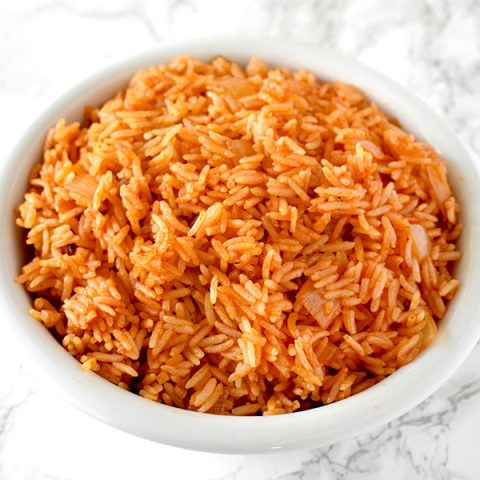Nasi Merah: (7, 52, 464, 415)
